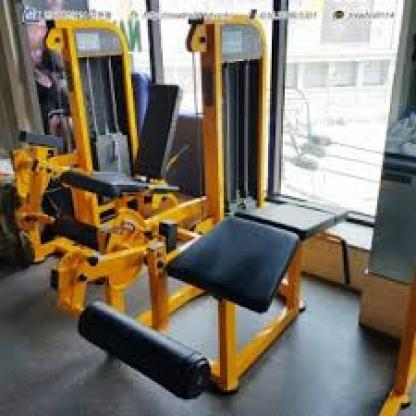reg curl machine: (71, 13, 358, 400)
